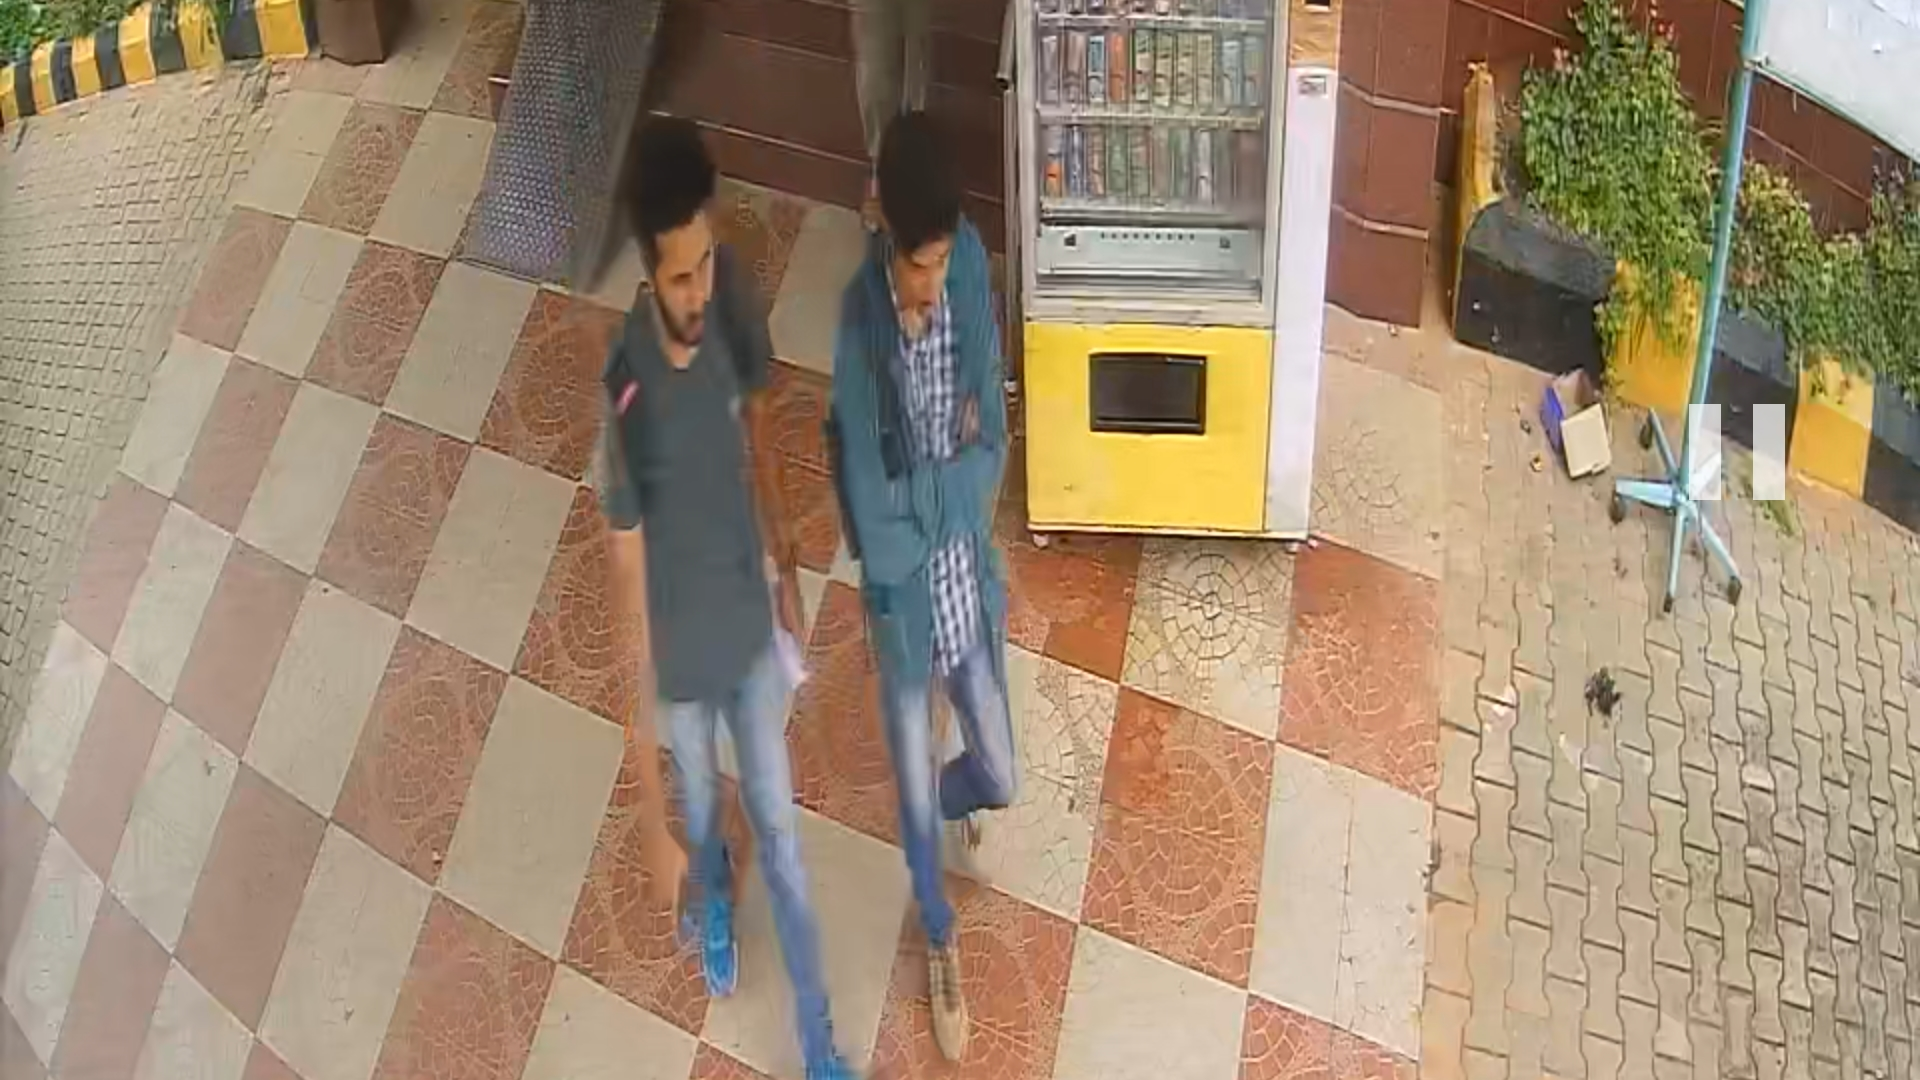intruder: (593, 102, 843, 1080), (835, 119, 1048, 1073)
